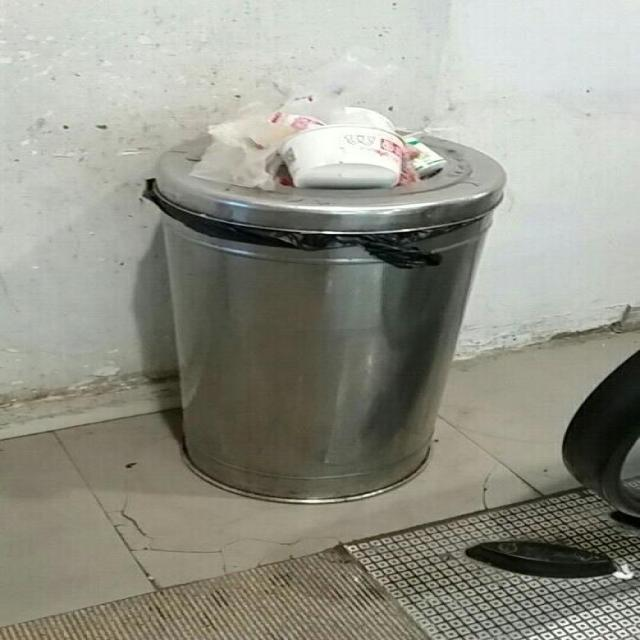overflow: (143, 102, 507, 503)
